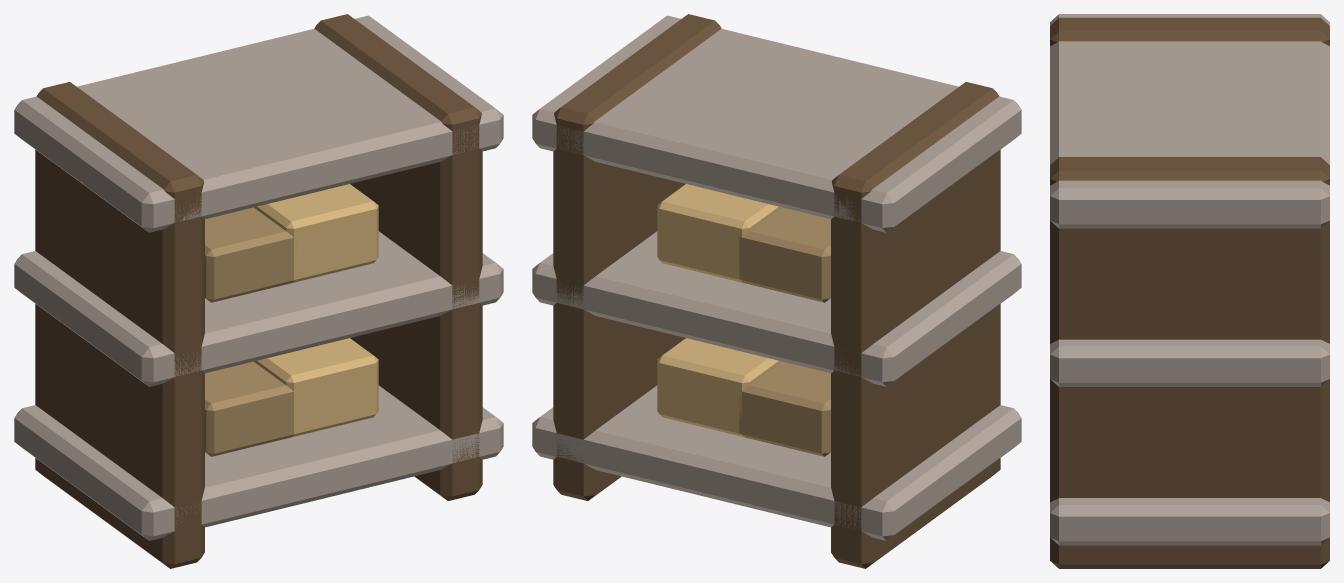
The model's file is town_record_stack.lod1.glb.
The picture shows the model from 3 angles, left to right: view 1: azimuth 30°, elevation 25°; view 2: azimuth 150°, elevation 25°; view 3: azimuth 270°, elevation 25°; orthographic projection. The views are drawn at different scales.
Size of the model in its own units: 0.86 by 0.88 by 0.56.
